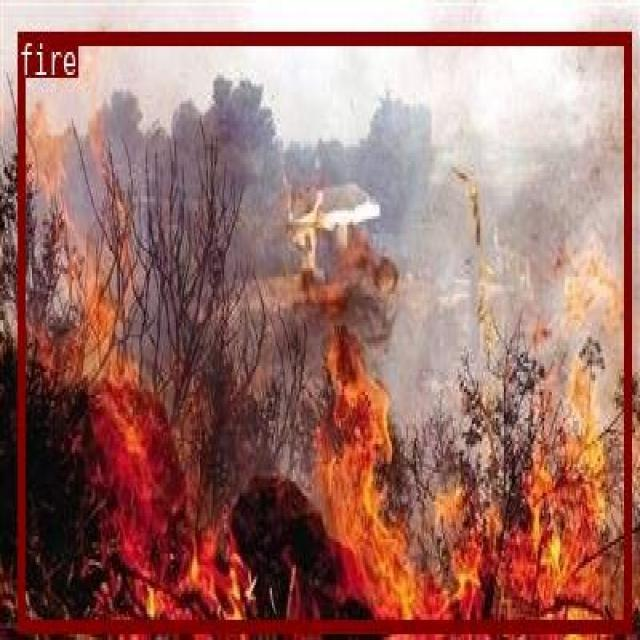fire: (17, 30, 630, 631)
